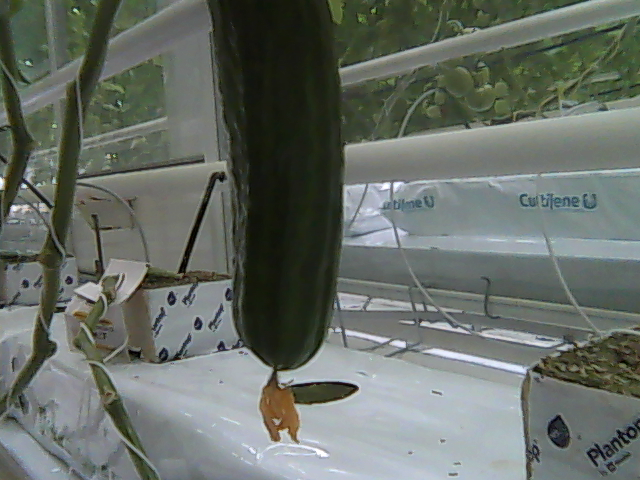concombre: (203, 1, 348, 446)
